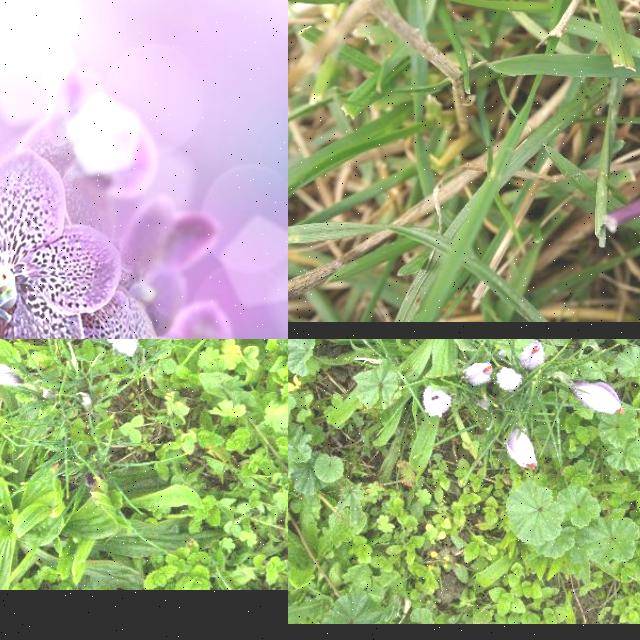flower: (569, 381, 625, 415), (506, 430, 538, 472), (423, 386, 453, 418), (462, 362, 493, 388), (520, 340, 546, 370), (496, 366, 524, 392), (0, 362, 18, 385)
overlap: (101, 339, 136, 355)
